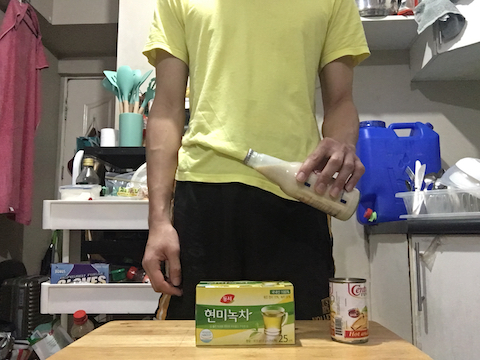bottle: (240, 145, 363, 224)
box: (190, 279, 300, 349)
can: (327, 275, 373, 347)
grab: (293, 135, 369, 198)
